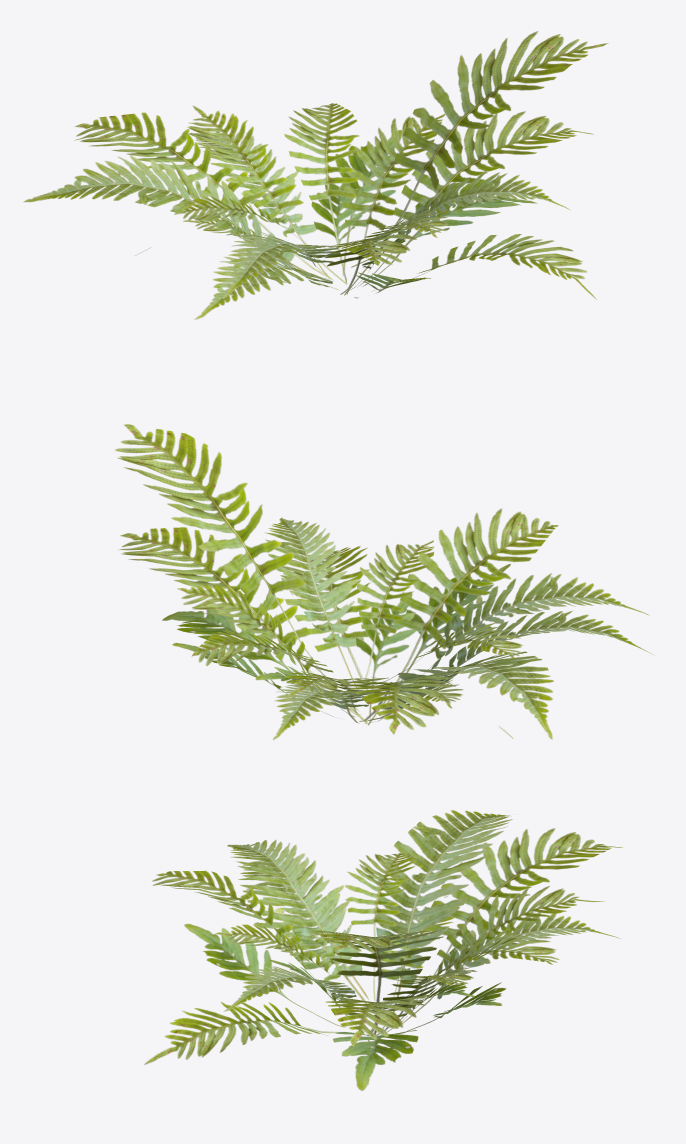
The picture shows the model from 3 angles, top to bottom: view 1: azimuth 30°, elevation 25°; view 2: azimuth 150°, elevation 25°; view 3: azimuth 270°, elevation 25°; orthographic projection. The views are drawn at different scales.
Parts seen in each view (by area): view 1: Plane; view 2: Plane; view 3: Plane.
Part boxes in pixels (<box>): Plane: <box>23,31,608,319</box>; Plane: <box>115,424,654,740</box>; Plane: <box>144,810,622,1090</box>.
Size of the model in its own units: 1180 by 399 by 1128.
